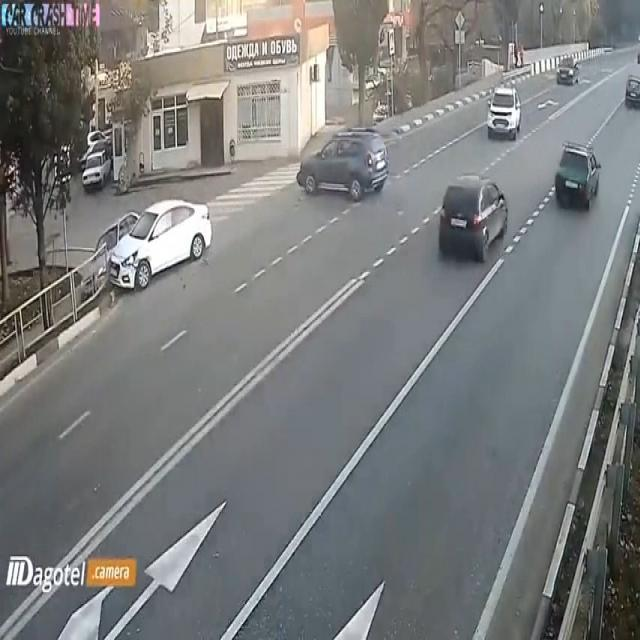Accident: (97, 178, 226, 316)
